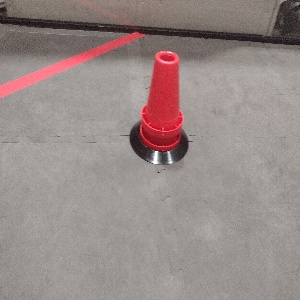Red_2: (137, 48, 184, 152)
